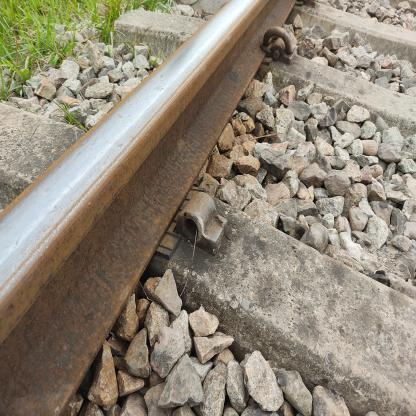Defective: (165, 173, 249, 283)
